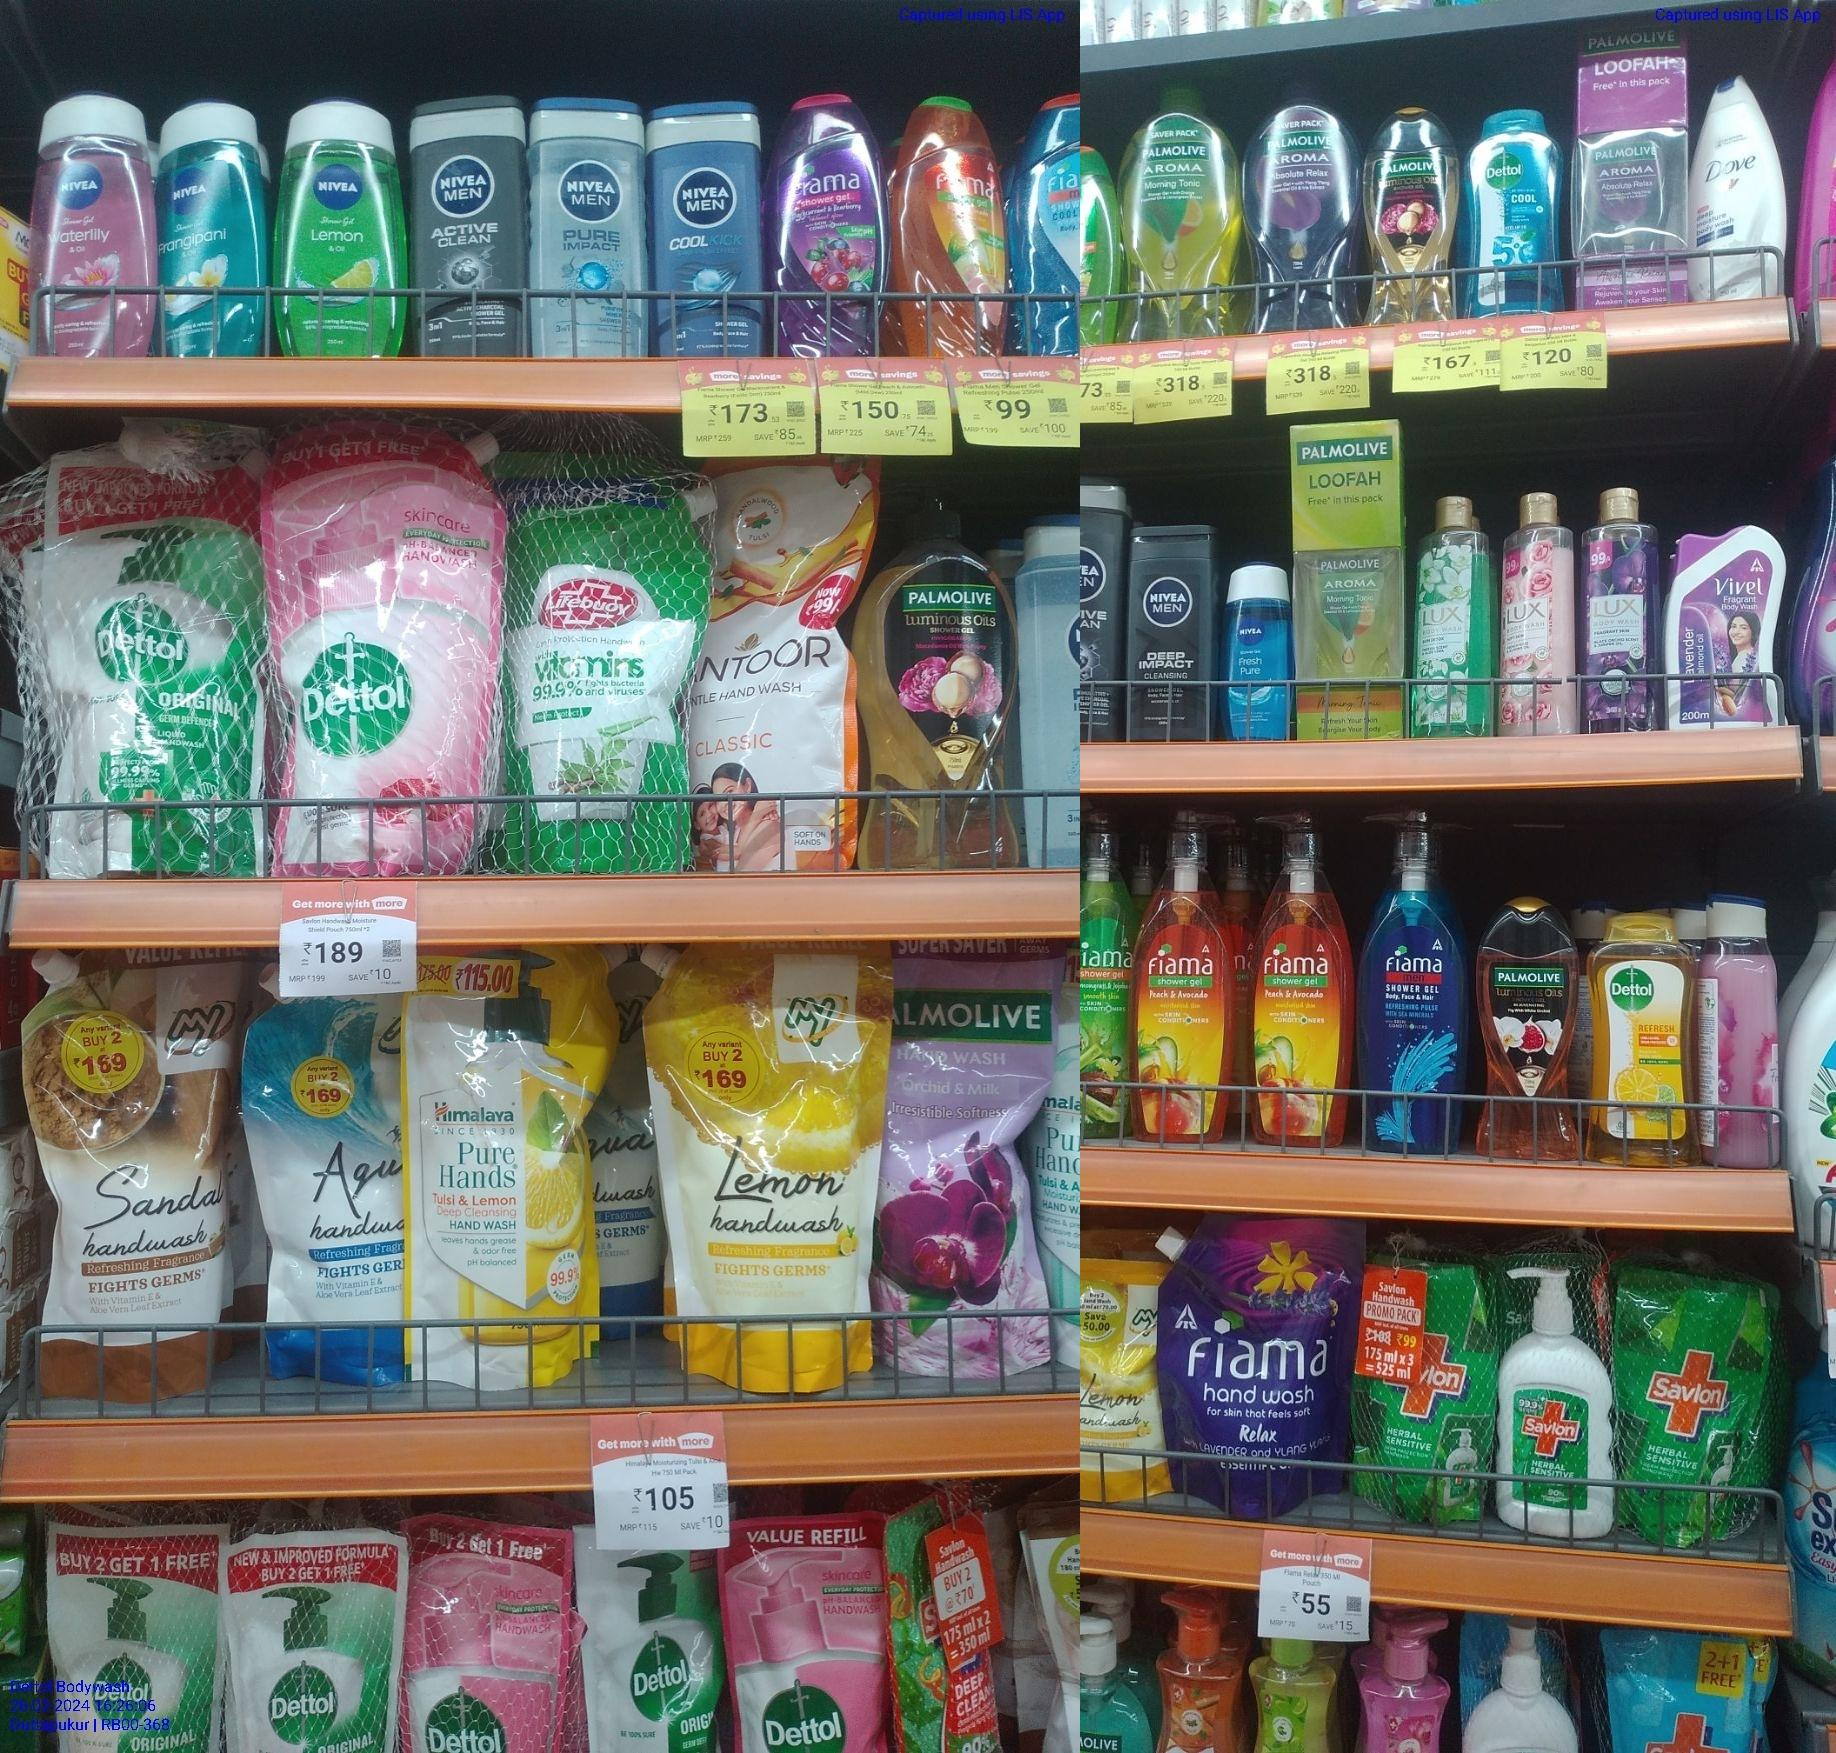Dettol_Bodywash_Cool: (1464, 102, 1556, 320)
Dettol_Bodywash_Refresh: (1590, 913, 1705, 1174)
Dove_Deep_Moisture_Body_Wash_250ML: (1685, 72, 1782, 303)
Fiama_Shower_Gel_Peach_and_Avocado_250ML: (902, 90, 1010, 361)
Lux_Black_Orchid_Scent_and_Juniper_Oil_Body_Wash_245ML: (1577, 479, 1664, 735)
Lux_Body_Wash_Skin_Detox_Freesia_Scent_and_Alove_Vera_245ML: (1413, 492, 1488, 740)
Nivea_Shower_Gel_Frangipani_and_Oil_250ML: (159, 93, 264, 357)
Nivea_Shower_Gel_Lemon_and_Oil_250ML: (274, 93, 403, 357)
Nivea_Shower_Gel_Waterlily_and_Oil_250ML: (31, 84, 149, 362)
Palmolive_Luminous_Oils_Invigorating_Macadamia_Oil_With_Peony_250ML: (1366, 105, 1457, 331)
Palmolive_Luminous_Oils_With_White_Orchid_Shower_Gel_250ML: (1474, 894, 1582, 1164)
